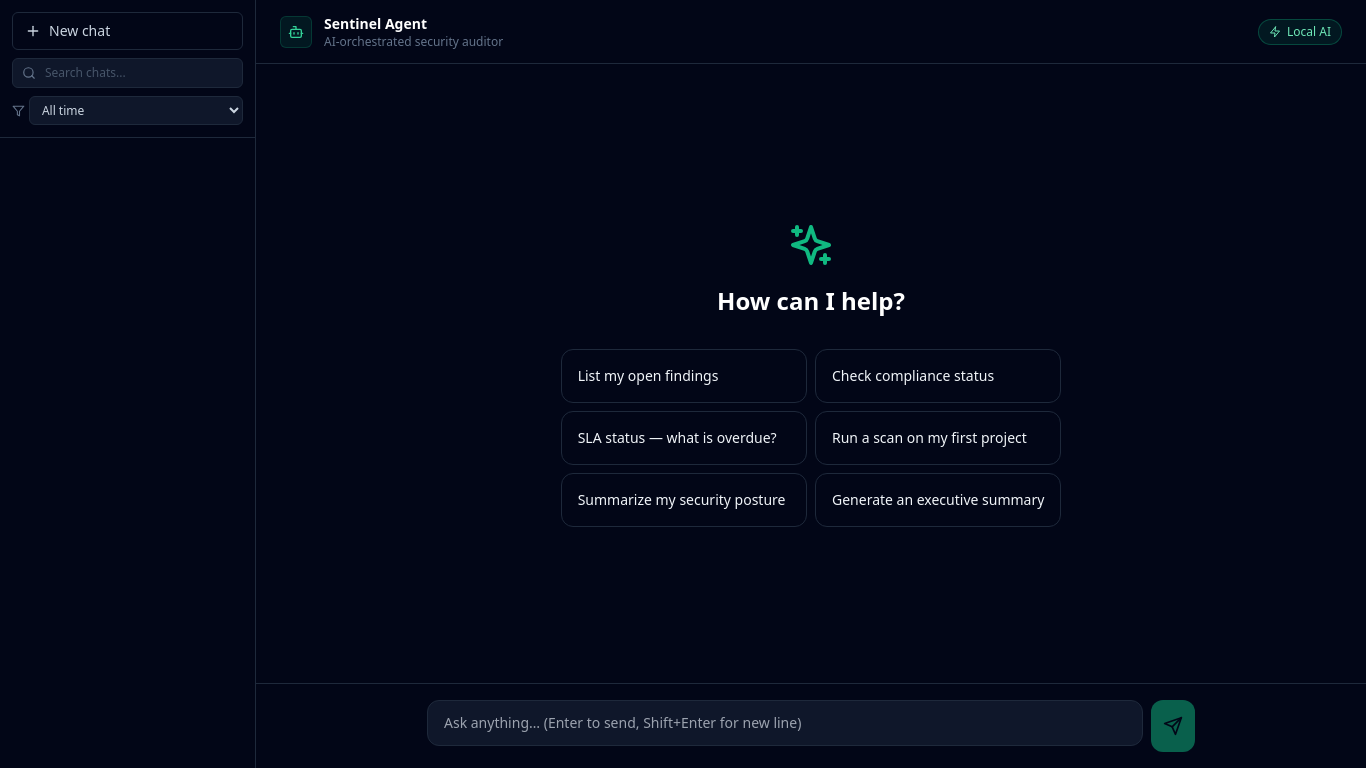
Test case: Chat — form and keyboard interactions › shows char counter when input has text
In the text box with placeholder "Ask anything… (Enter to send, Shift+Enter for new line)": [785, 723] box [427,700,1143,746], type "hello"
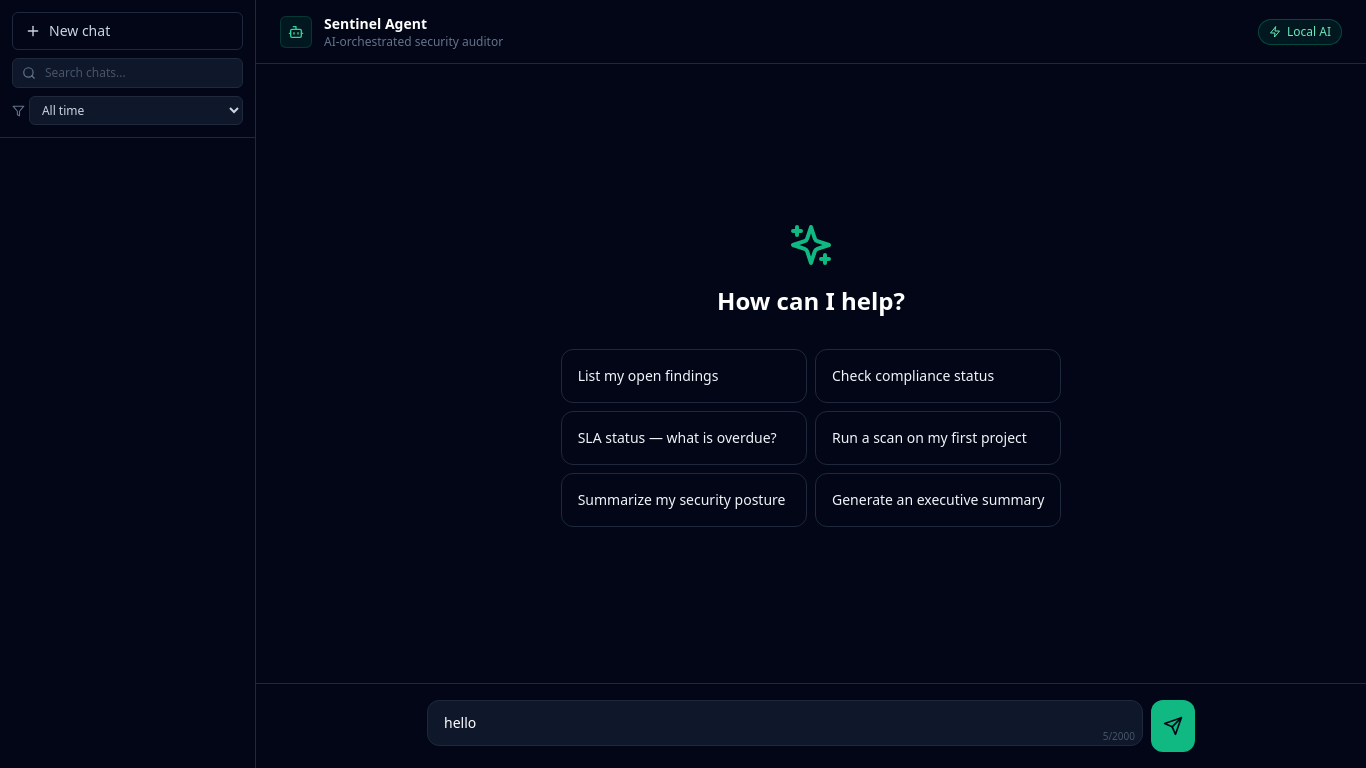
Result: the text "5/2000" is shown at [1103,729,1135,744]
